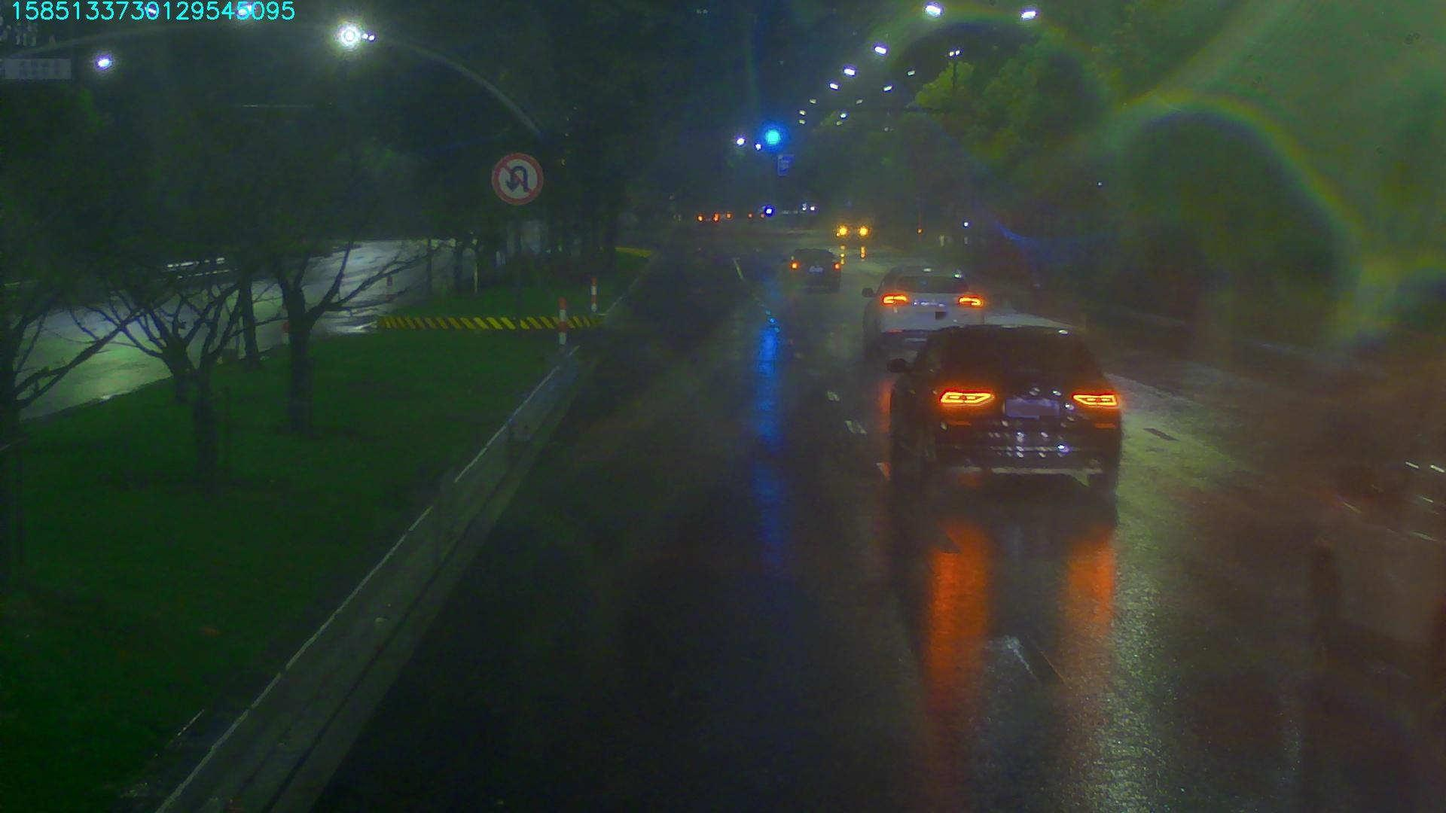green: (762, 125, 782, 147)
